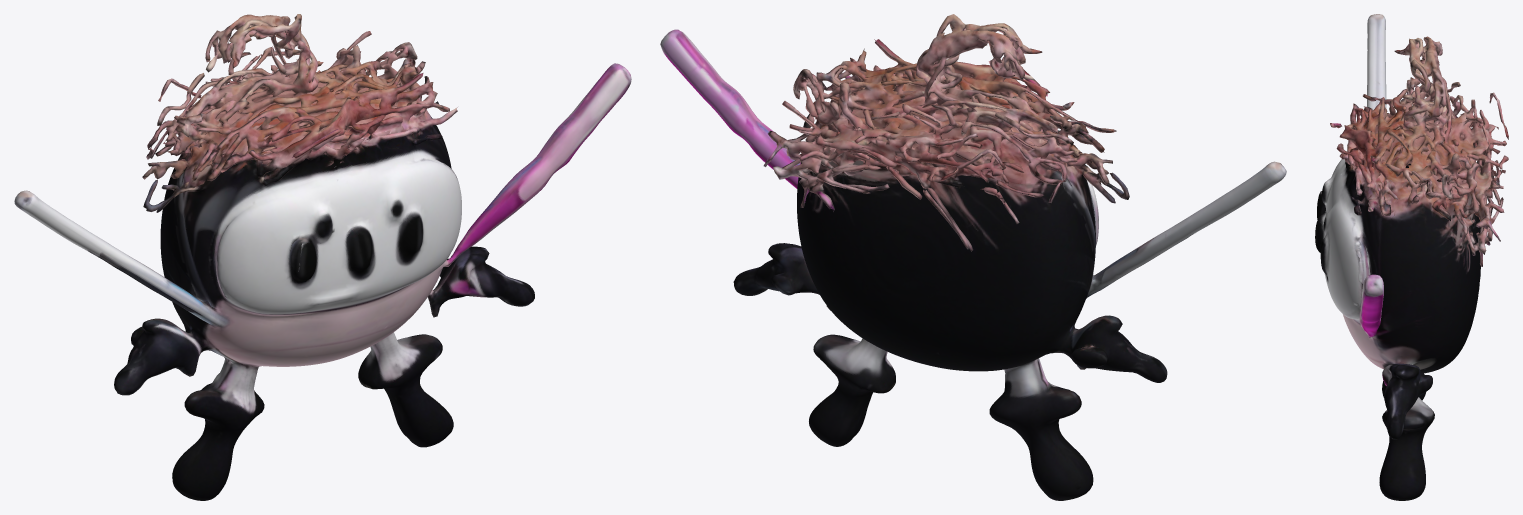
3 renders of one model, left to right at view 1: azimuth 30°, elevation 25°; view 2: azimuth 150°, elevation 25°; view 3: azimuth 270°, elevation 25°, orthographic. The views are drawn at different scales.
Visible parts, largest first — view 1: Mesh1_Mesh1.035; view 2: Mesh1_Mesh1.035; view 3: Mesh1_Mesh1.035.
Part boxes in pixels (x1,y1,x2,y2): Mesh1_Mesh1.035: (14,14,631,500); Mesh1_Mesh1.035: (660,14,1286,500); Mesh1_Mesh1.035: (1315,14,1508,500).
Size of the model in its own units: 201 by 143 by 64.06.
Materials: 1 (1 with a texture image).
